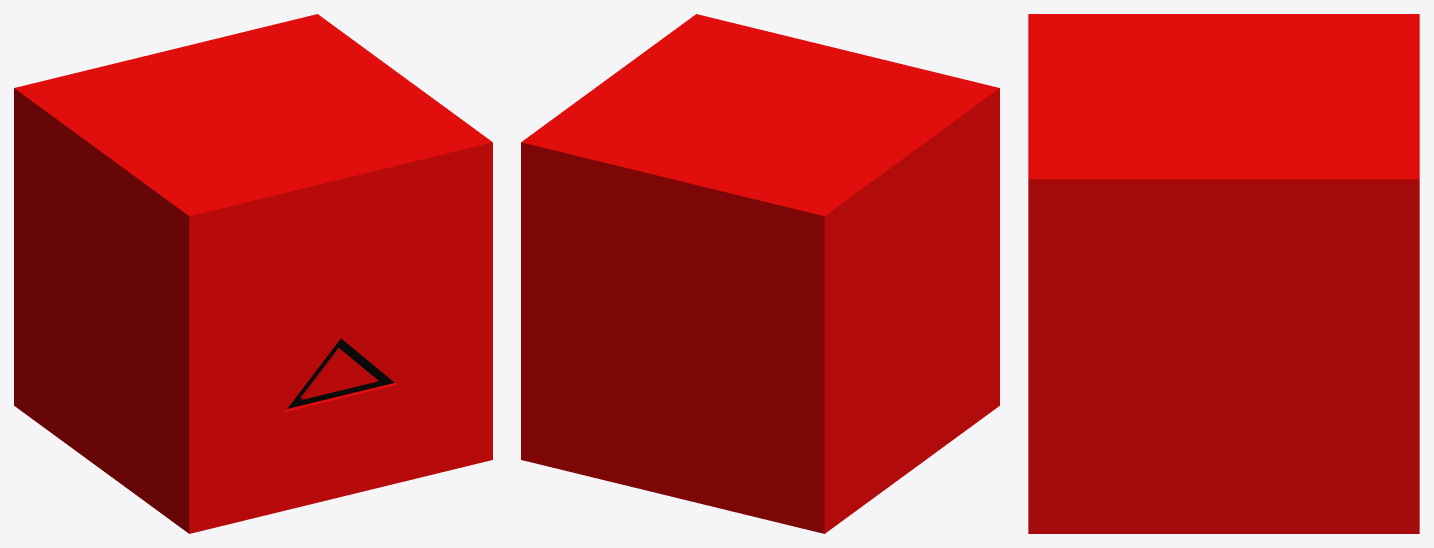
The picture shows the model from 3 angles, left to right: view 1: azimuth 30°, elevation 25°; view 2: azimuth 150°, elevation 25°; view 3: azimuth 270°, elevation 25°; orthographic projection. The views are drawn at different scales.
Visible parts, largest first — view 1: Object_1, Layer 02; view 2: Object_1; view 3: Object_1.
Part boxes in pixels (<box>): Object_1: <box>14,14,492,533</box>; Layer 02: <box>287,338,394,408</box>; Object_1: <box>521,14,999,533</box>; Object_1: <box>1028,14,1419,533</box>.
Size of the model in its own units: 14.61 by 14.61 by 14.61.
